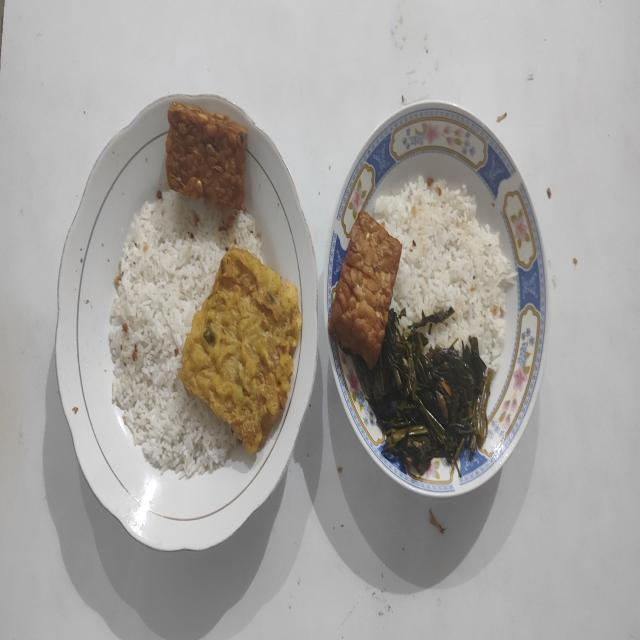nasi_putih: (109, 191, 262, 477), (375, 178, 516, 370)
tempe_goreng: (328, 212, 402, 368), (166, 102, 247, 209)
tumis_kangkung: (351, 308, 494, 474)
